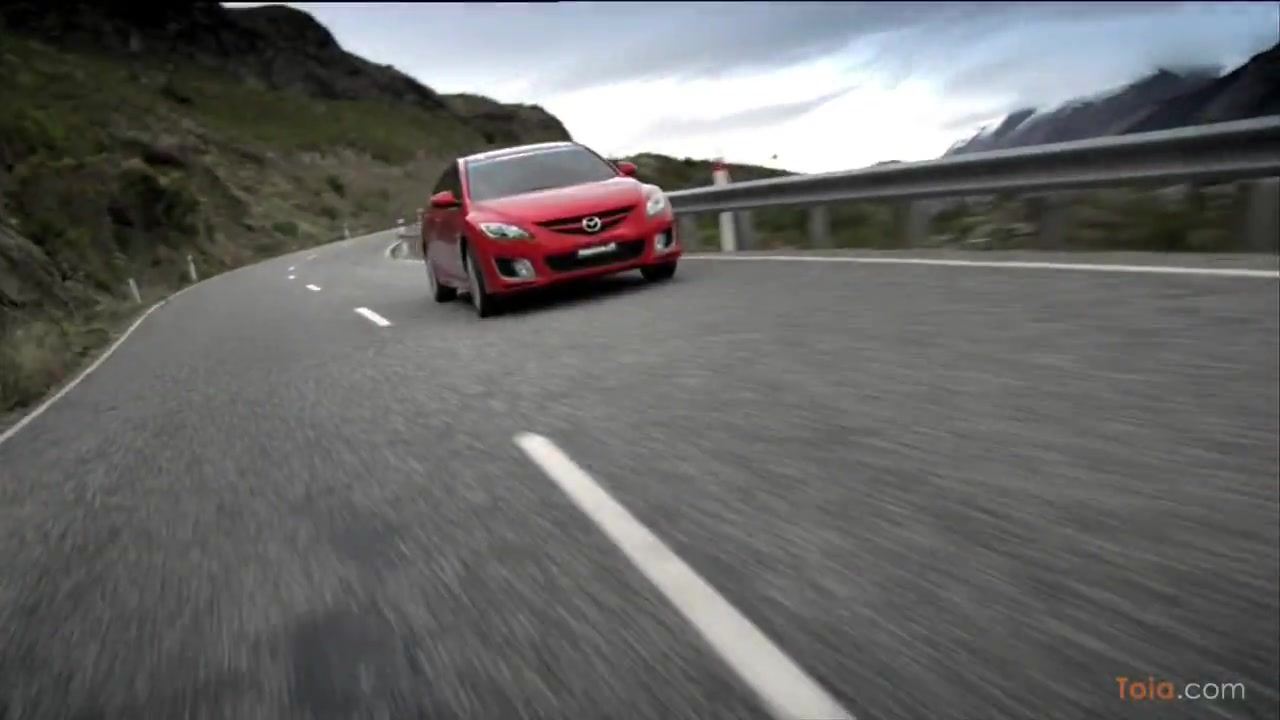car: (412, 144, 686, 316)
